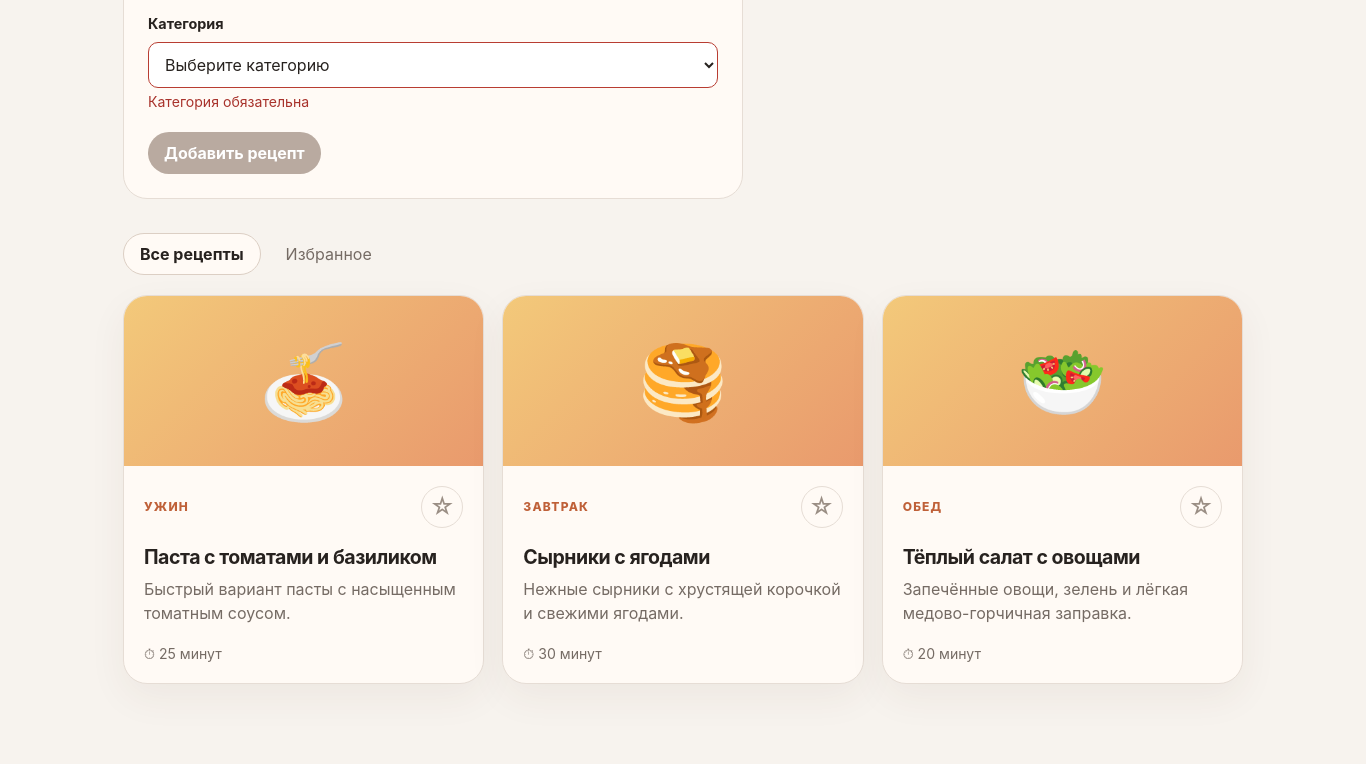
Scenario: показывает только избранные рецепты после переключения фильтра
This screenshot has width=1366, height=764.
(page scrolled)
Click the button "☆" in the row of "Завтрак". click: (822,507)
box: [801,486,843,528]
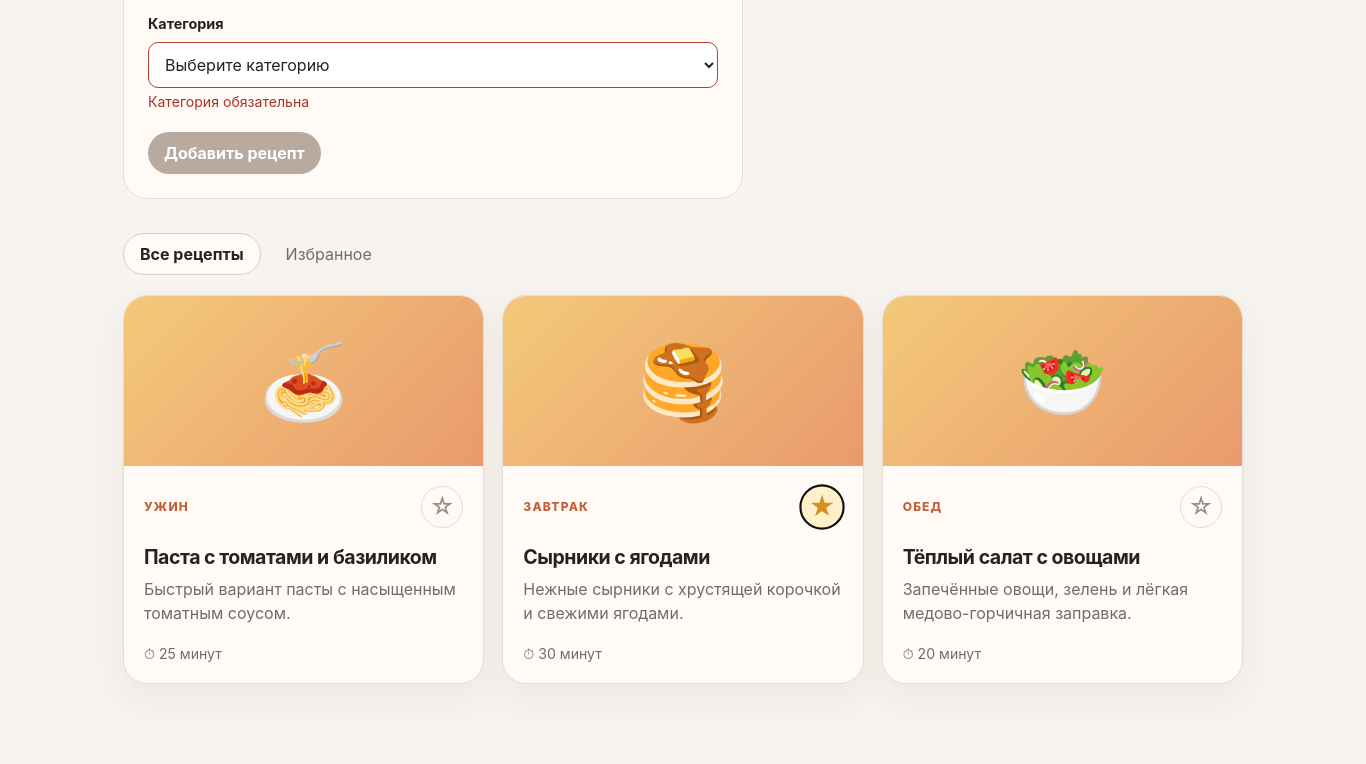
Click the button "Избранное". click: (329,254)
box: [269,233,389,275]
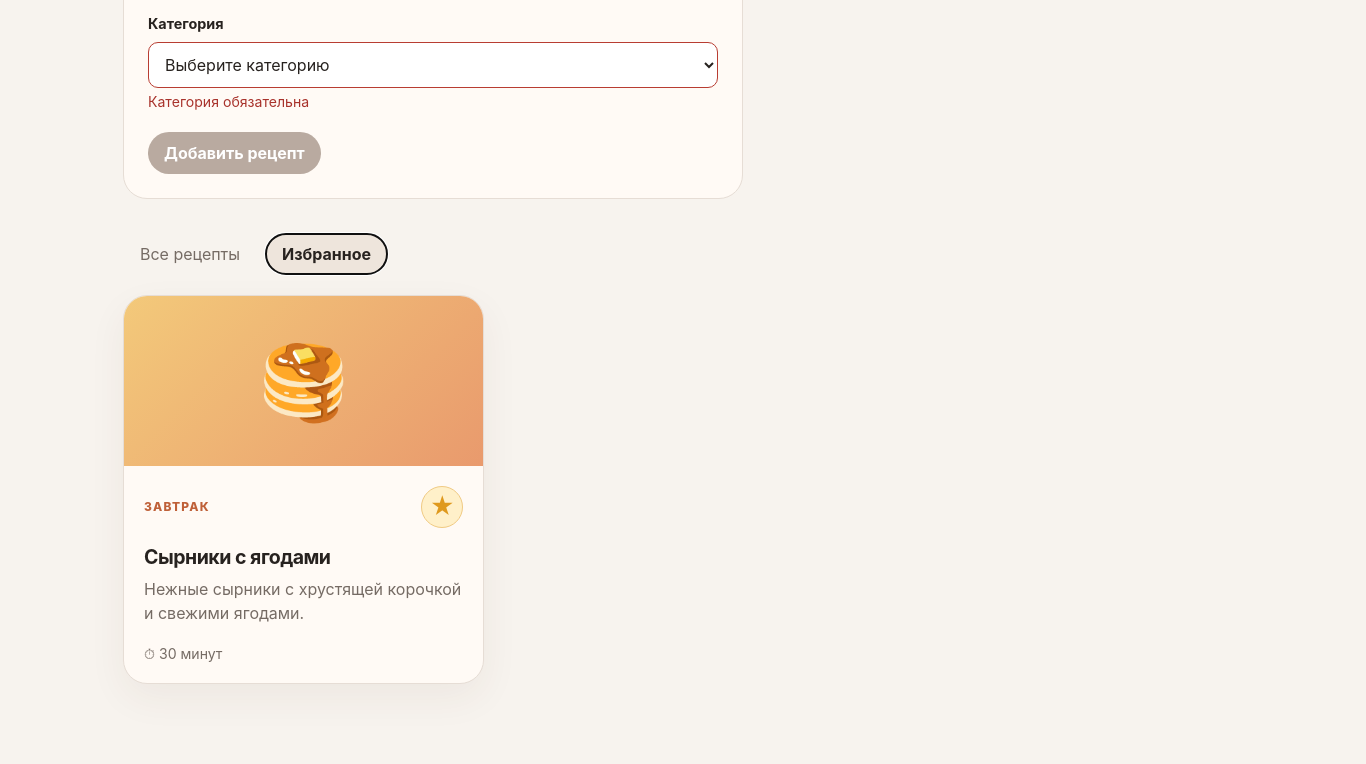
Expected: the heading "Сырники с ягодами" is shown, [144,545,330,569]
Now the heading "Паста с томатами и базиликом" is gone
